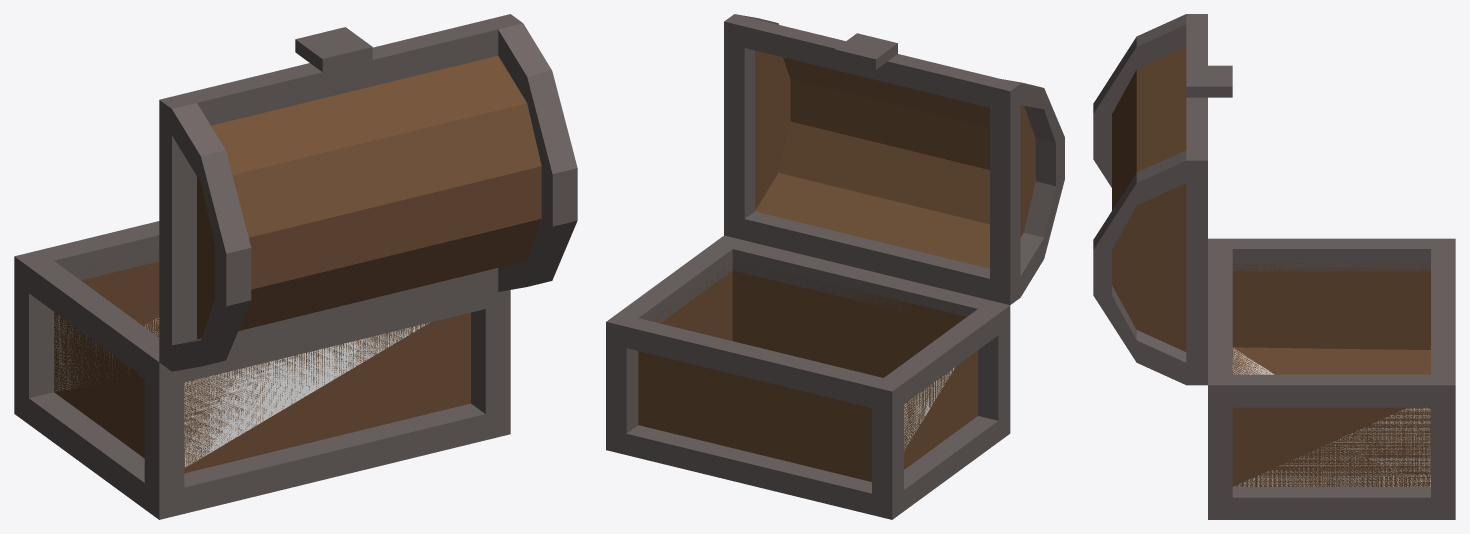
File: bank-chest.gltf
The picture shows the model from 3 angles, left to right: view 1: azimuth 30°, elevation 25°; view 2: azimuth 150°, elevation 25°; view 3: azimuth 270°, elevation 25°; orthographic projection. The views are drawn at different scales.
Size of the model in its own units: 112 by 132 by 117.
1 material, 1 textured.
